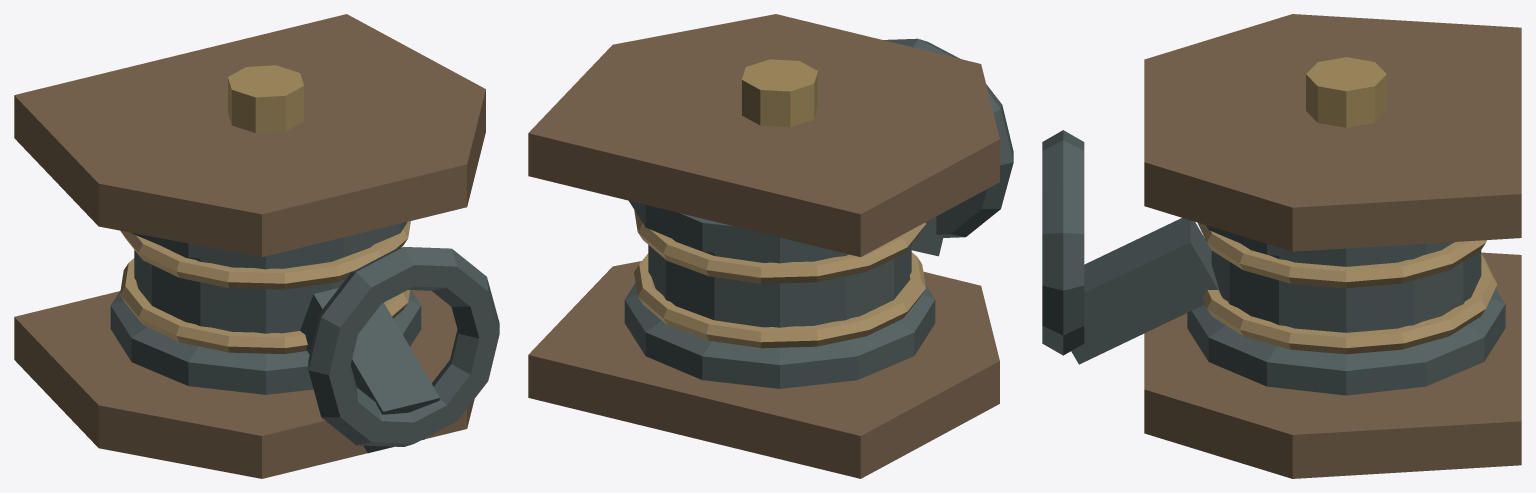
Rendered from SWP_WoodenPulley.fbx.
The picture shows the model from 3 angles, left to right: view 1: azimuth 30°, elevation 25°; view 2: azimuth 150°, elevation 25°; view 3: azimuth 270°, elevation 25°; orthographic projection. The views are drawn at different scales.
Parts seen in each view (by area): view 1: SWP_WoodenPulley; view 2: SWP_WoodenPulley; view 3: SWP_WoodenPulley.
Part boxes in pixels (x1,y1,x2,y2): SWP_WoodenPulley: (14,14,499,478); SWP_WoodenPulley: (528,14,1013,478); SWP_WoodenPulley: (1042,14,1521,478).
Size of the model in its own units: 0.17 by 0.138 by 0.1778.
